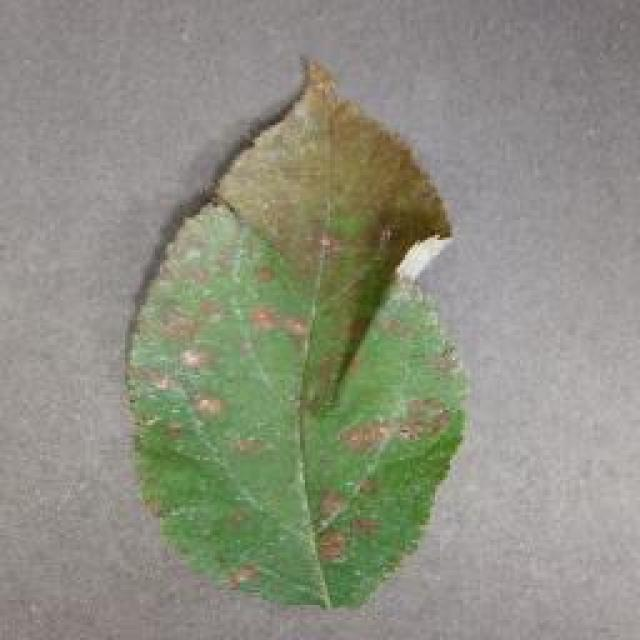apple rust disease: (120, 55, 470, 610)
